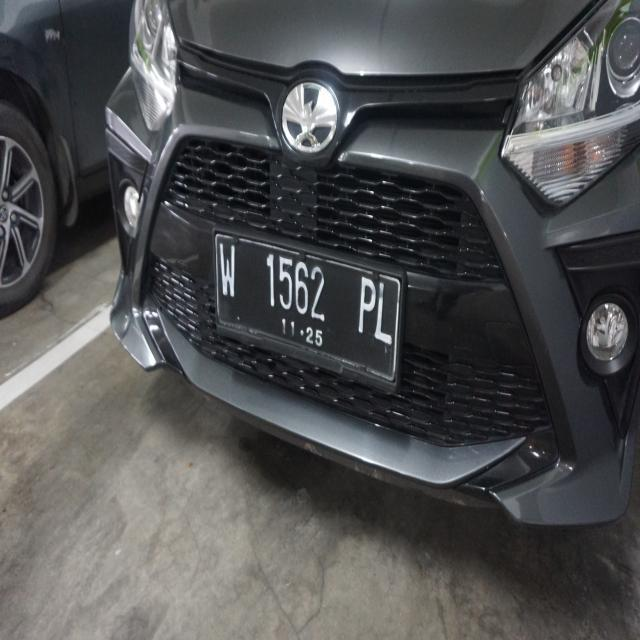1: (260, 246, 282, 319)
2: (306, 254, 332, 336)
5: (274, 250, 296, 314)
6: (290, 252, 311, 325)
L: (369, 268, 396, 358)
P: (353, 271, 377, 337)
W: (215, 238, 243, 308)
